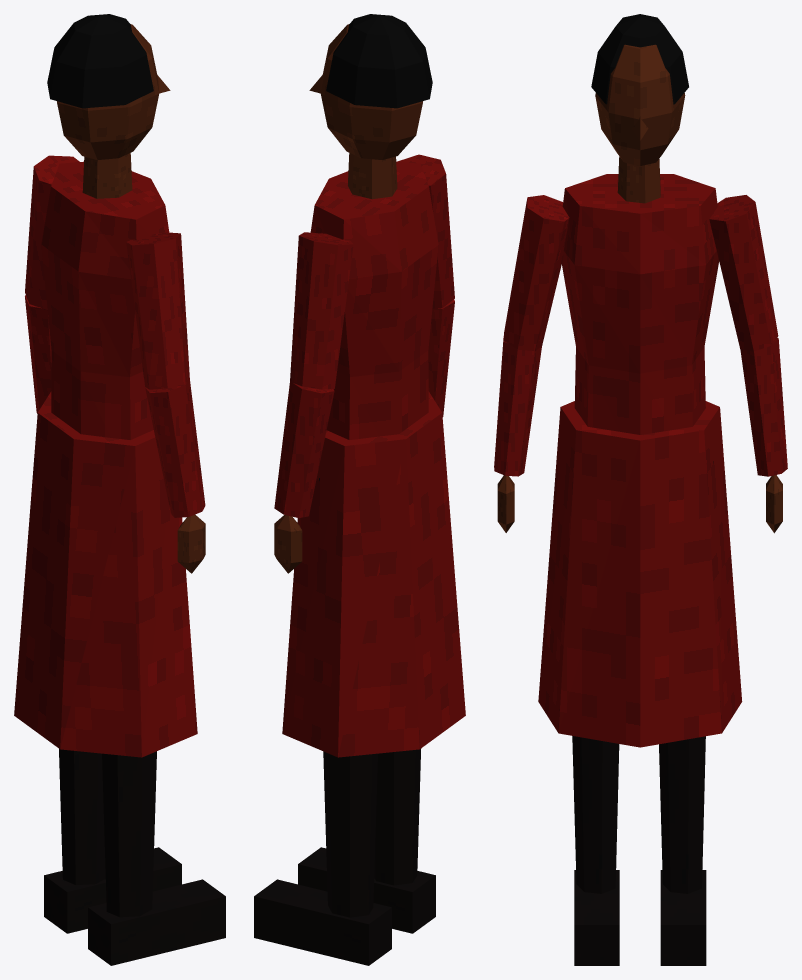
File: nino.glb
3 views of the same model, side by side, from view 1: azimuth 30°, elevation 25°; view 2: azimuth 150°, elevation 25°; view 3: azimuth 270°, elevation 25° (orthographic).
Parts seen in each view (by area): view 1: faldon, torso, pierna_der, cabello, brazo_der, pie_der, pierna_izq, antebrazo_der, cabeza, pie_izq, brazo_izq, antebrazo_izq (+2 smaller); view 2: faldon, torso, pierna_izq, cabello, brazo_izq, pie_izq, pierna_der, antebrazo_izq, cabeza, pie_der, brazo_der, antebrazo_der (+2 smaller); view 3: faldon, torso, cabeza, brazo_izq, brazo_der, pierna_der, pierna_izq, antebrazo_izq, antebrazo_der, cabello, pie_izq, pie_der (+3 smaller).
Part boxes in pixels (x1,y1,x2,y2): faldon: [14, 391, 197, 757]; torso: [41, 161, 169, 439]; pierna_der: [102, 751, 156, 917]; cabello: [47, 14, 153, 108]; brazo_der: [126, 232, 189, 389]; pie_der: [88, 879, 225, 965]; pierna_izq: [59, 749, 105, 884]; antebrazo_der: [145, 379, 205, 517]; cabeza: [57, 24, 170, 159]; pie_izq: [44, 847, 181, 933]; brazo_izq: [25, 155, 79, 309]; antebrazo_izq: [25, 295, 51, 413]; faldon: [282, 391, 465, 757]; torso: [310, 161, 438, 439]; pierna_izq: [323, 751, 377, 917]; cabello: [326, 14, 432, 108]; brazo_izq: [290, 232, 353, 389]; pie_izq: [254, 879, 391, 965]; pierna_der: [374, 748, 421, 885]; antebrazo_izq: [274, 381, 334, 517]; cabeza: [309, 24, 422, 159]; pie_der: [298, 847, 435, 933]; brazo_der: [397, 154, 454, 308]; antebrazo_der: [428, 299, 454, 416]; faldon: [538, 401, 742, 747]; torso: [562, 174, 719, 434]; cabeza: [595, 44, 685, 165]; brazo_izq: [709, 195, 778, 351]; brazo_der: [504, 195, 569, 351]; pierna_der: [572, 736, 619, 893]; pierna_izq: [659, 736, 705, 893]; antebrazo_izq: [740, 337, 787, 476]; antebrazo_der: [494, 336, 541, 476]; cabello: [591, 14, 688, 104]; pie_izq: [660, 870, 706, 965]; pie_der: [574, 870, 619, 965].
Bounding box in the file's own units: 0.3 × 1.7 × 0.5.
Materials: 1 (1 with a texture image).
